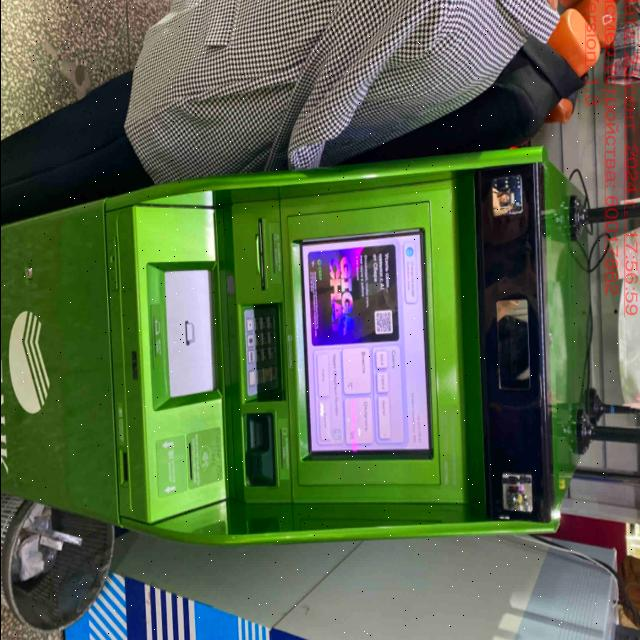bank: (0, 150, 595, 540)
